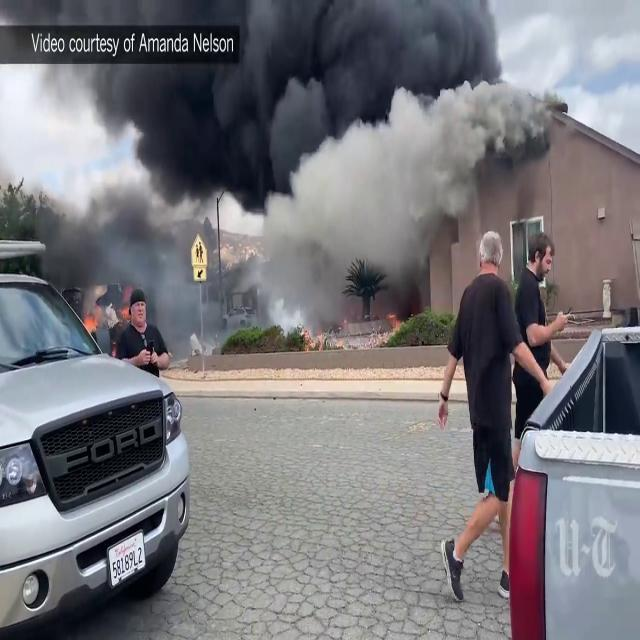Smoke: (34, 0, 534, 327)
